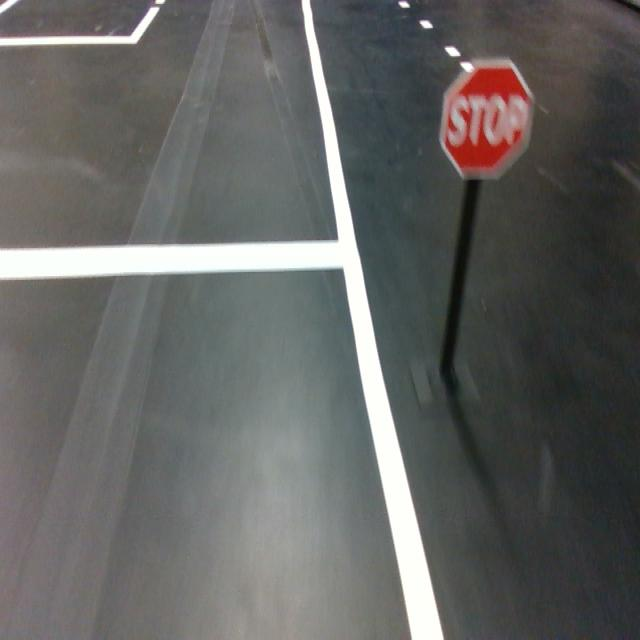stop-sign: (438, 56, 534, 180)
